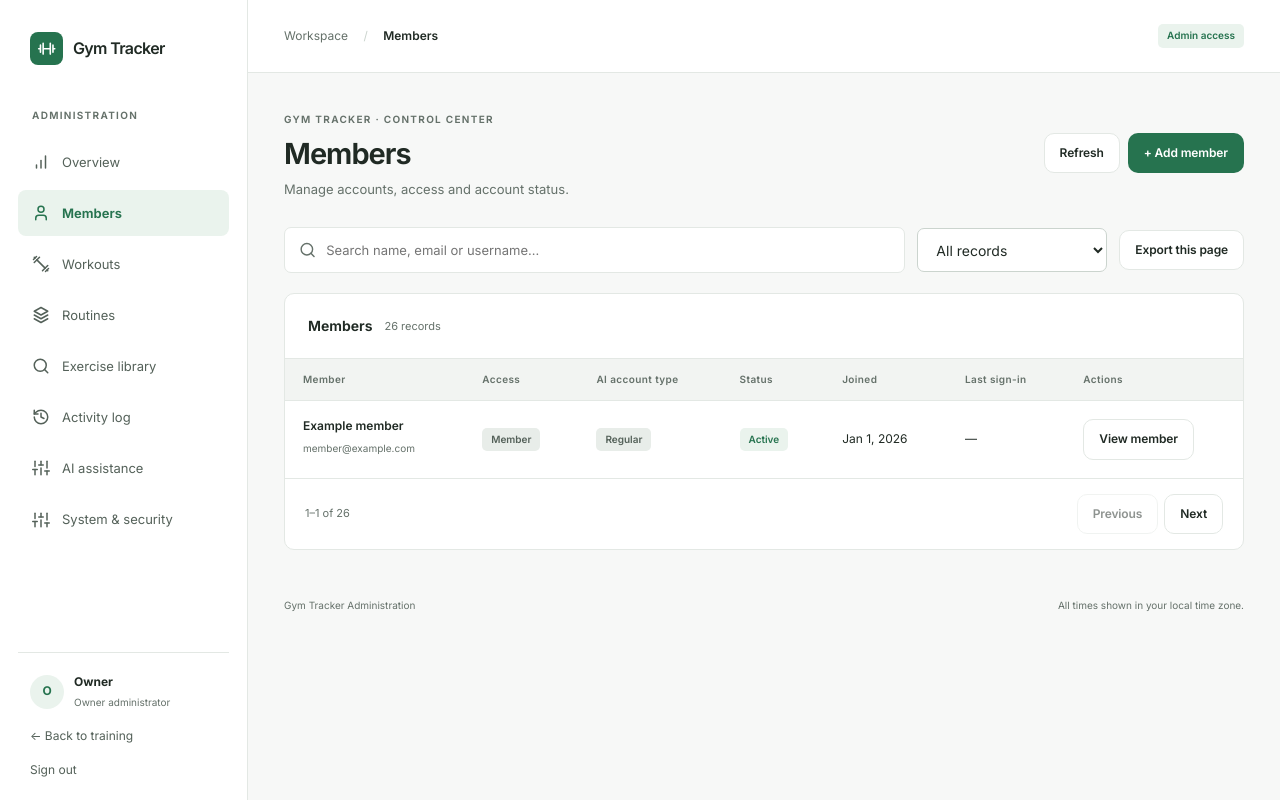
Test case: requires confirmation before discarding member edits and submits the original revision
Expected: the text "Example member" is shown, left=303, top=418, right=404, bottom=433
Click the button "View member" at (1139, 440), box left=1083, top=419, right=1194, bottom=460
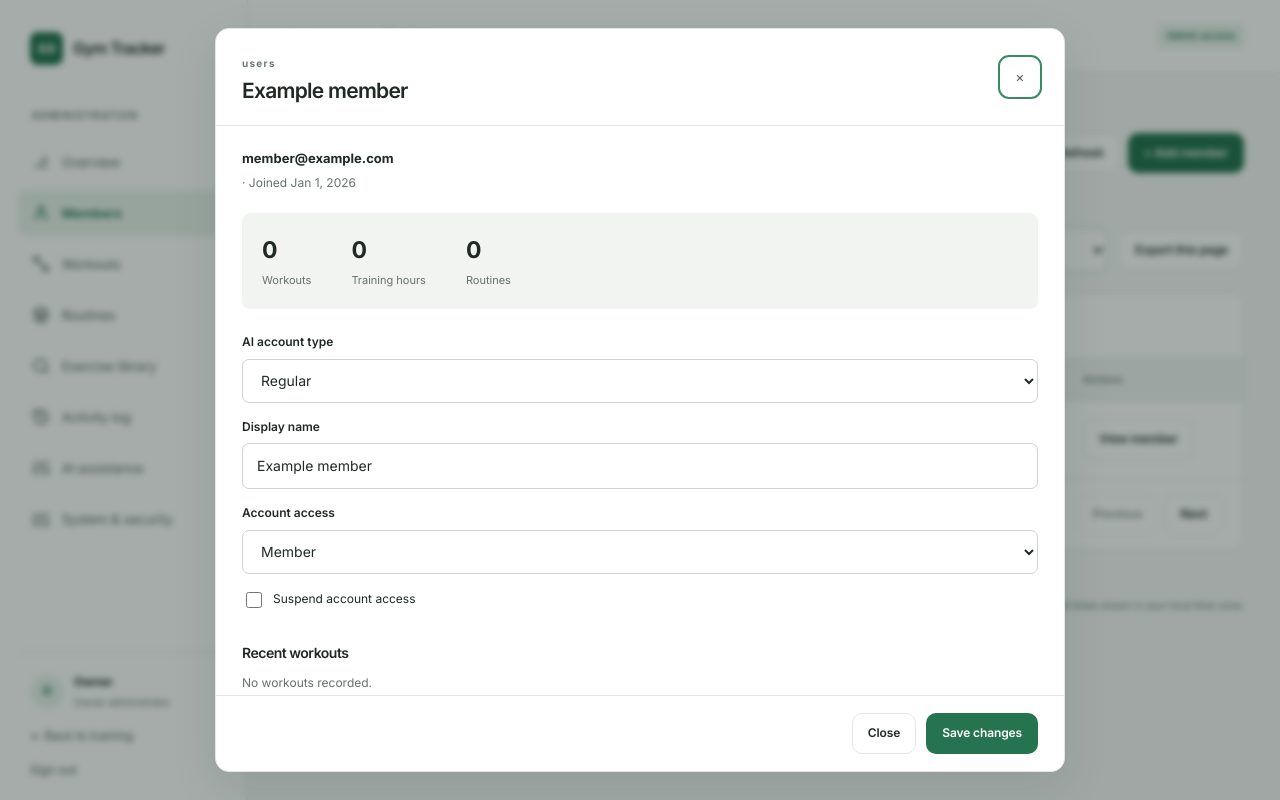
Expected: the dialog is shown
Replace the text in the field labelled "Display name" with "Corrected member" at (640, 466), box left=242, top=444, right=1038, bottom=489
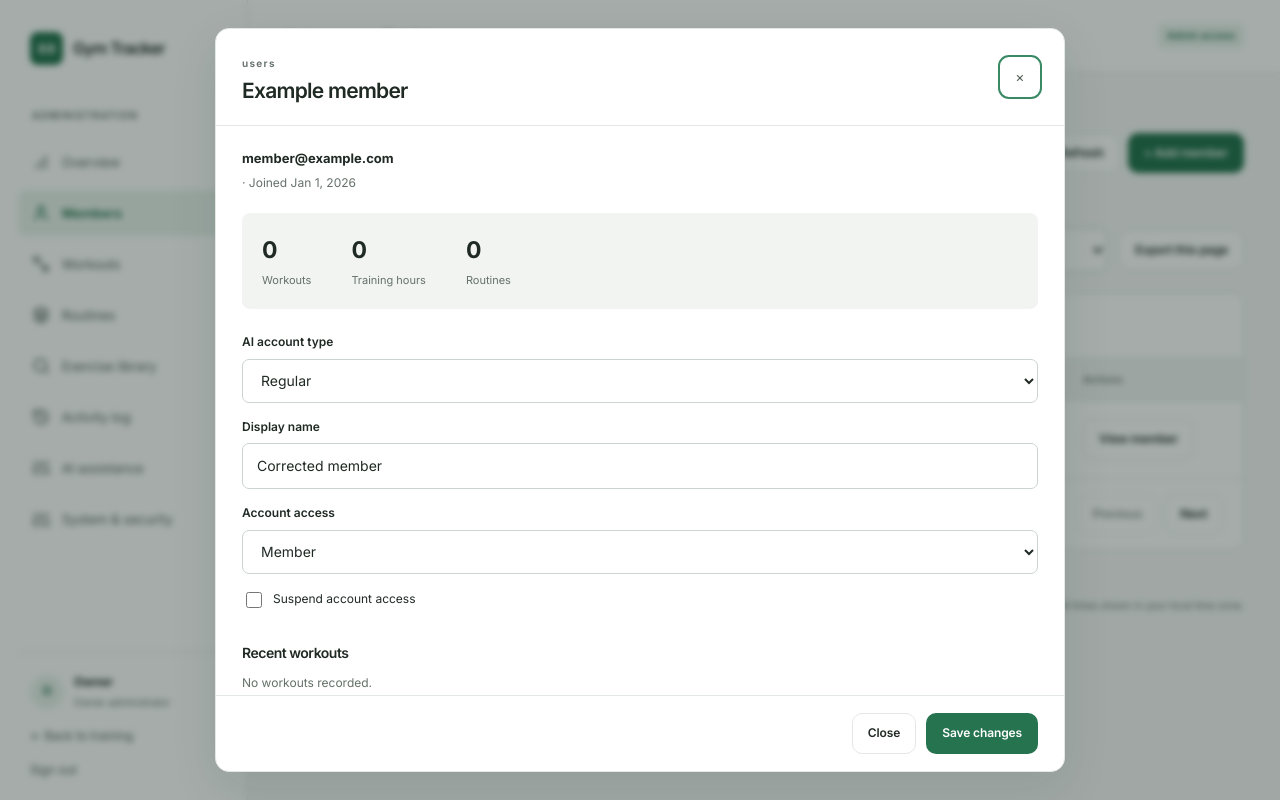
Press Escape
Expected: the dialog is shown
Click the button "Save changes" at (982, 734), box left=926, top=713, right=1038, bottom=754
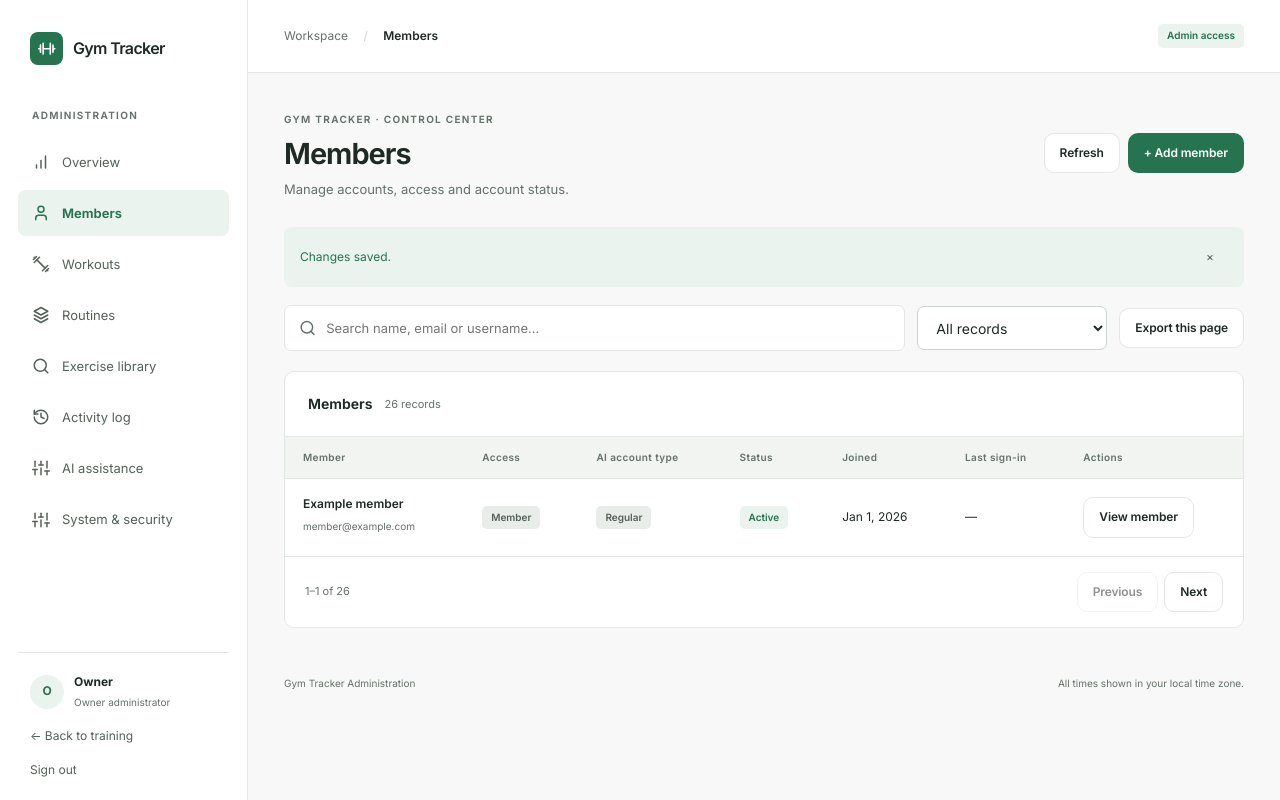
Expected: the text "Changes saved." is shown, left=300, top=249, right=391, bottom=264
